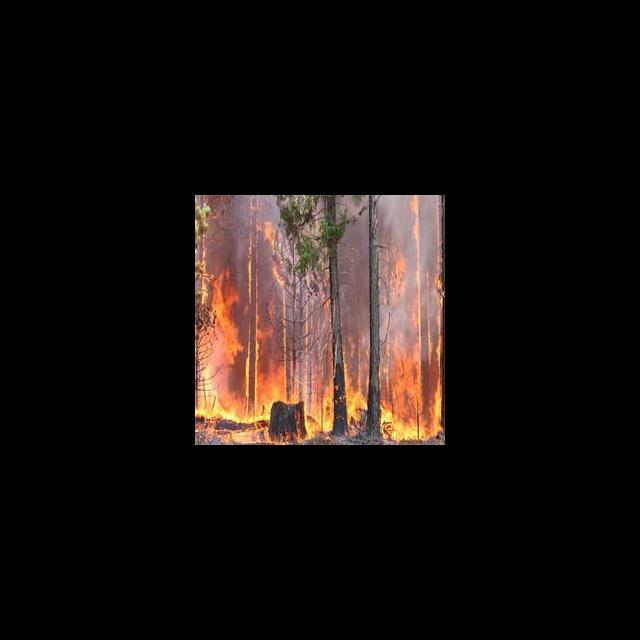Fire: (196, 273, 442, 443)
